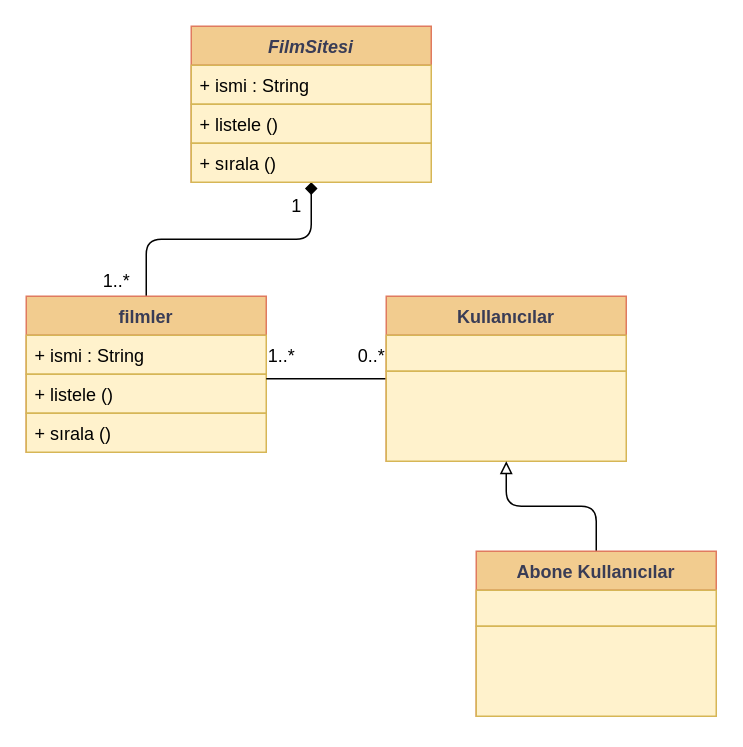
Image size: 743x747. Some labels were removed from this diagram. The shapes that lost their labels are listed below. From the top down, each one's centre as x and y in pixels, then its label:
At [505,352]: "+ kullanıcıAdı : String".
At [505,415]: "+ aboneOl () + filmSatınal () + filmTalepEt()".
At [595,607]: "+ krediMiktarı : int".
At [595,670]: "+ krediAl () + filmKirala ()".
